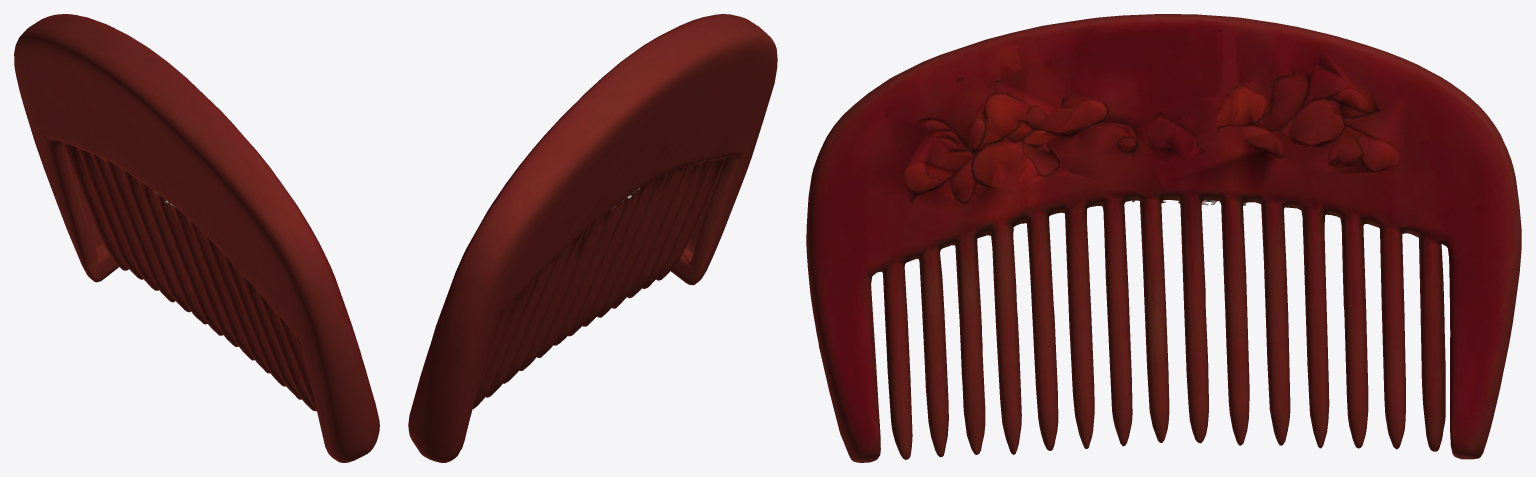
File: offer-kushi.glb
The picture shows the model from 3 angles, left to right: view 1: azimuth 30°, elevation 25°; view 2: azimuth 150°, elevation 25°; view 3: azimuth 270°, elevation 25°; orthographic projection. The views are drawn at different scales.
Parts seen in each view (by area): view 1: tripo_node_a232078d-9190-477a-a71d-546c015ff29f; view 2: tripo_node_a232078d-9190-477a-a71d-546c015ff29f; view 3: tripo_node_a232078d-9190-477a-a71d-546c015ff29f.
Part boxes in pixels (bbox=[...]): tripo_node_a232078d-9190-477a-a71d-546c015ff29f: bbox=[14, 14, 379, 462]; tripo_node_a232078d-9190-477a-a71d-546c015ff29f: bbox=[408, 14, 777, 462]; tripo_node_a232078d-9190-477a-a71d-546c015ff29f: bbox=[806, 14, 1521, 462].
Bounding box in the file's own units: 0.264 × 0.6239 × 0.9998.
Materials: 1 (1 with a texture image).
